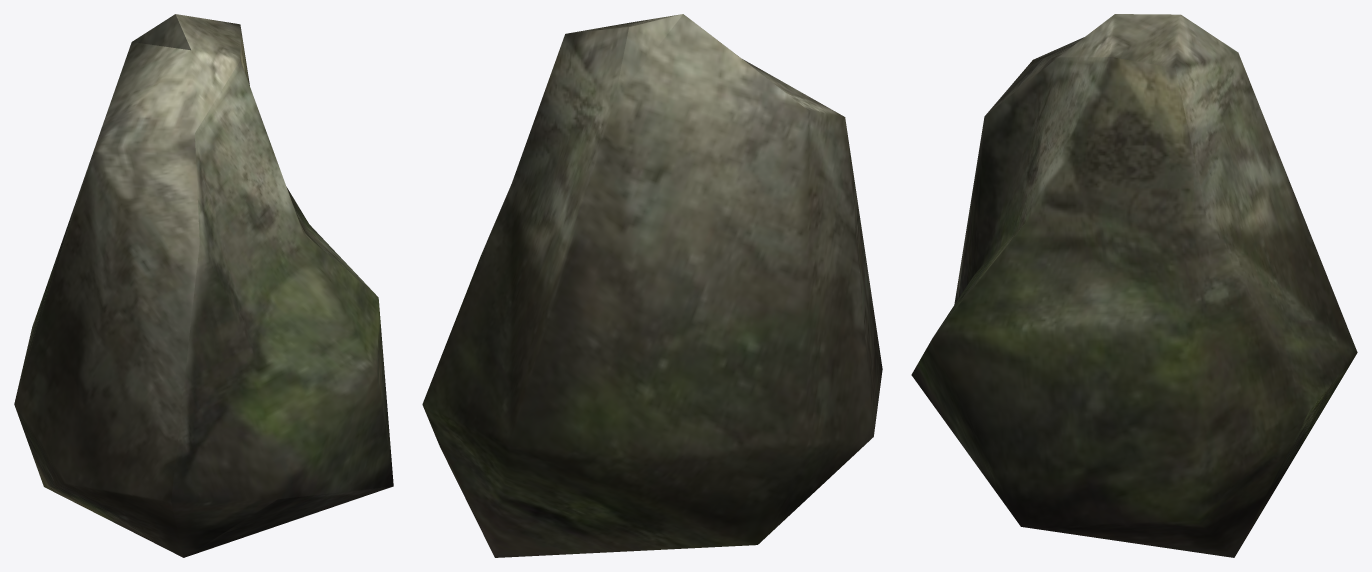
The model's file is zz_dont_use_rock_Dk_3F.fbx.
3 renders of one model, left to right at view 1: azimuth 30°, elevation 25°; view 2: azimuth 150°, elevation 25°; view 3: azimuth 270°, elevation 25°, orthographic. The views are drawn at different scales.
Visible parts, largest first — view 1: good_rock01; view 2: good_rock01; view 3: good_rock01.
Part boxes in pixels (bbox=[...]): good_rock01: bbox=[14, 14, 393, 557]; good_rock01: bbox=[422, 14, 882, 557]; good_rock01: bbox=[911, 14, 1357, 557].
Size of the model in its own units: 228 by 325 by 264.
Materials: 1 (1 with a texture image).
